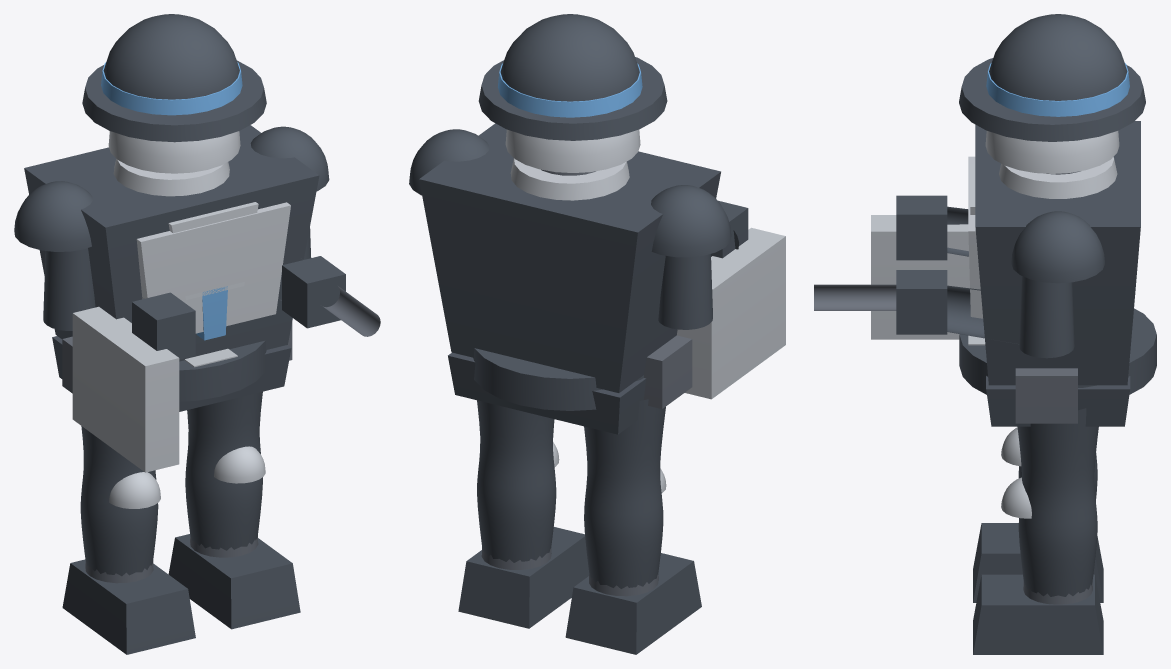
File: spy.glb
3 renders of one model, left to right at view 1: azimuth 30°, elevation 25°; view 2: azimuth 150°, elevation 25°; view 3: azimuth 270°, elevation 25°, orthographic. The views are drawn at different scales.
Visible parts, largest first — view 1: Hull; view 2: Hull; view 3: Hull.
Boxes of the visible parts, x1,y1,x2,y2 form: Hull: (14, 14, 380, 654); Hull: (409, 14, 785, 654); Hull: (814, 14, 1156, 654).
Size of the model in its own units: 0.5947 by 1.09 by 0.5737.
